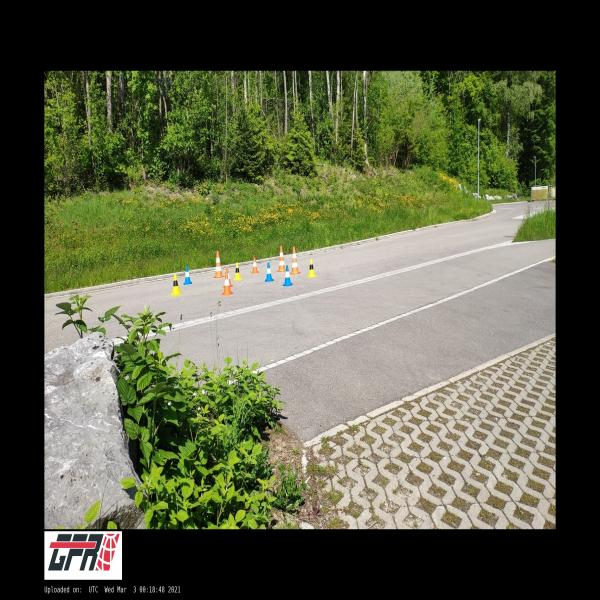blue_cone: (282, 265, 294, 286), (264, 262, 275, 282), (184, 266, 192, 285)
large_orange_cone: (212, 251, 225, 278), (290, 247, 300, 274), (277, 246, 285, 272)
orange_cone: (221, 272, 234, 294), (222, 268, 234, 287), (251, 257, 259, 273)
yellow_cone: (171, 274, 181, 295), (307, 259, 316, 277), (234, 262, 242, 280)
